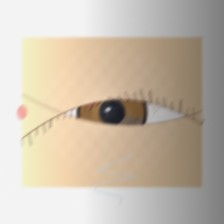foreign_body_visible: (77, 89, 102, 109)
